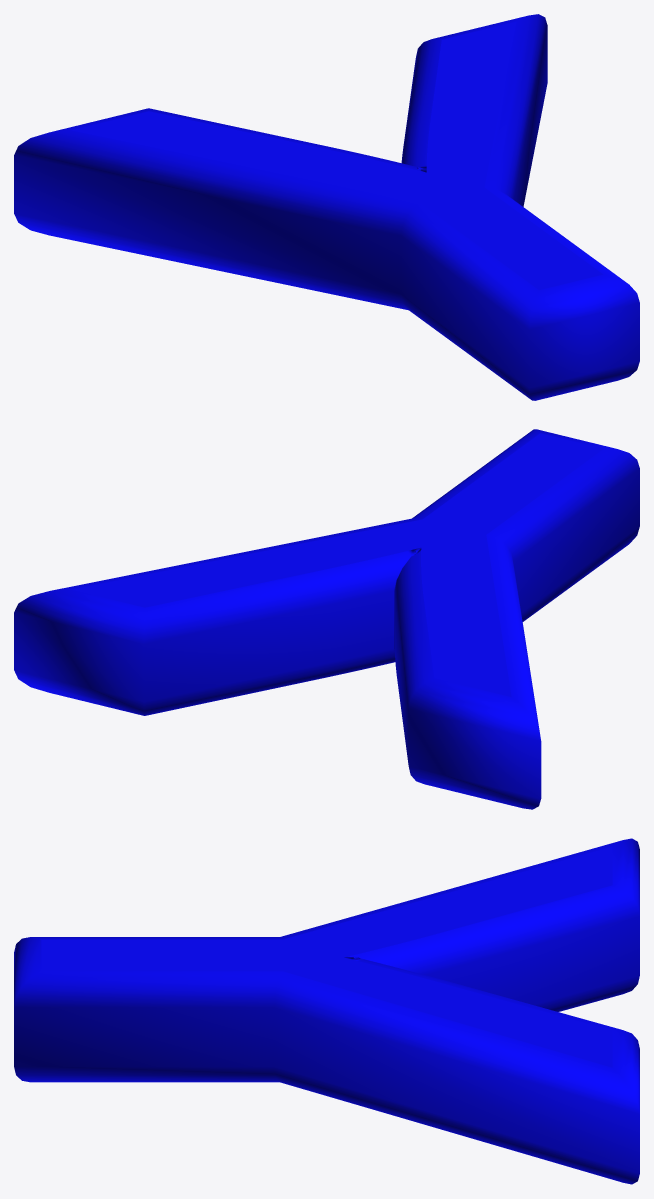
The picture shows the model from 3 angles, top to bottom: view 1: azimuth 30°, elevation 25°; view 2: azimuth 150°, elevation 25°; view 3: azimuth 270°, elevation 25°; orthographic projection. The views are drawn at different scales.
Parts seen in each view (by area): view 1: texto; view 2: texto; view 3: texto.
Boxes of the visible parts, bbox=[...] form: texto: bbox=[14, 14, 639, 400]; texto: bbox=[14, 429, 639, 809]; texto: bbox=[14, 838, 639, 1184].
Bounding box in the file's own units: 1.15 × 0.22 × 1.15.
